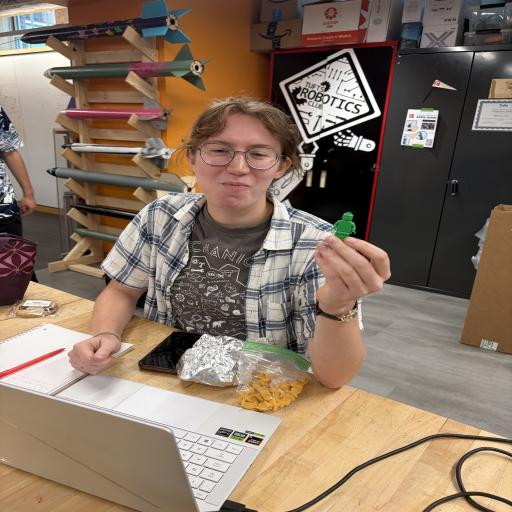Green-Lego: (331, 212, 356, 240)
